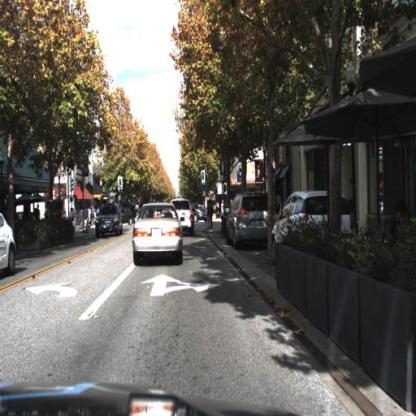car: (272, 189, 361, 265), (132, 198, 185, 266), (225, 191, 271, 247), (2, 208, 18, 281), (96, 202, 126, 238), (96, 205, 123, 239), (174, 196, 195, 238), (194, 199, 209, 227)
pedestrian: (206, 199, 214, 233), (209, 197, 214, 233), (35, 203, 43, 222)
trafficLight-Green: (200, 169, 208, 187), (200, 170, 208, 186), (118, 176, 125, 193)
